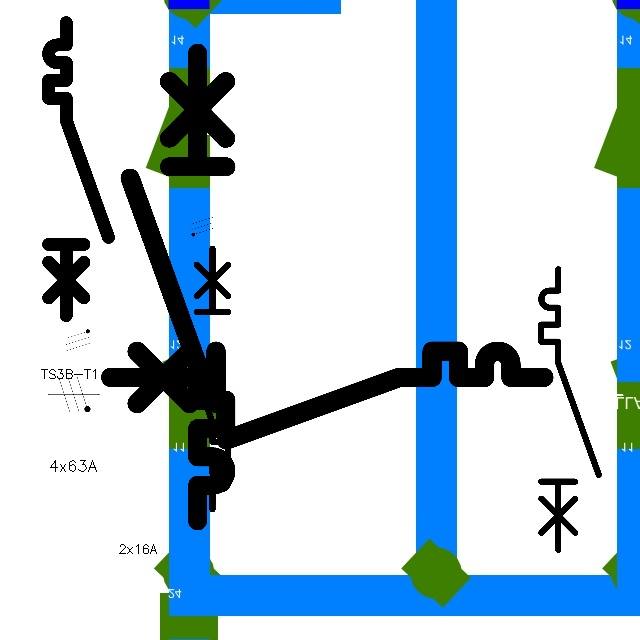interruptor_termomagnetico: (118, 41, 238, 533), (99, 340, 555, 451), (41, 15, 116, 323), (534, 262, 606, 557), (168, 242, 235, 516)
